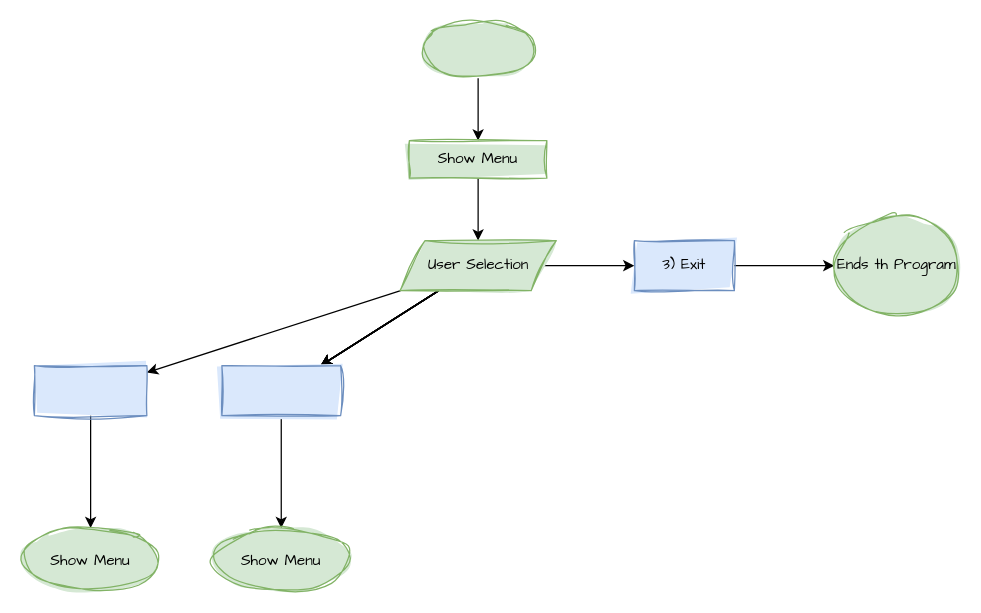
Some shapes in this 981 by 613 pixel diagram are drawn without their labels. Each missing label, with the box of its shape:
1) Add Task: (33, 364, 147, 416)
2) View Task: (221, 364, 341, 416)
Start (main.py): (421, 21, 534, 78)
